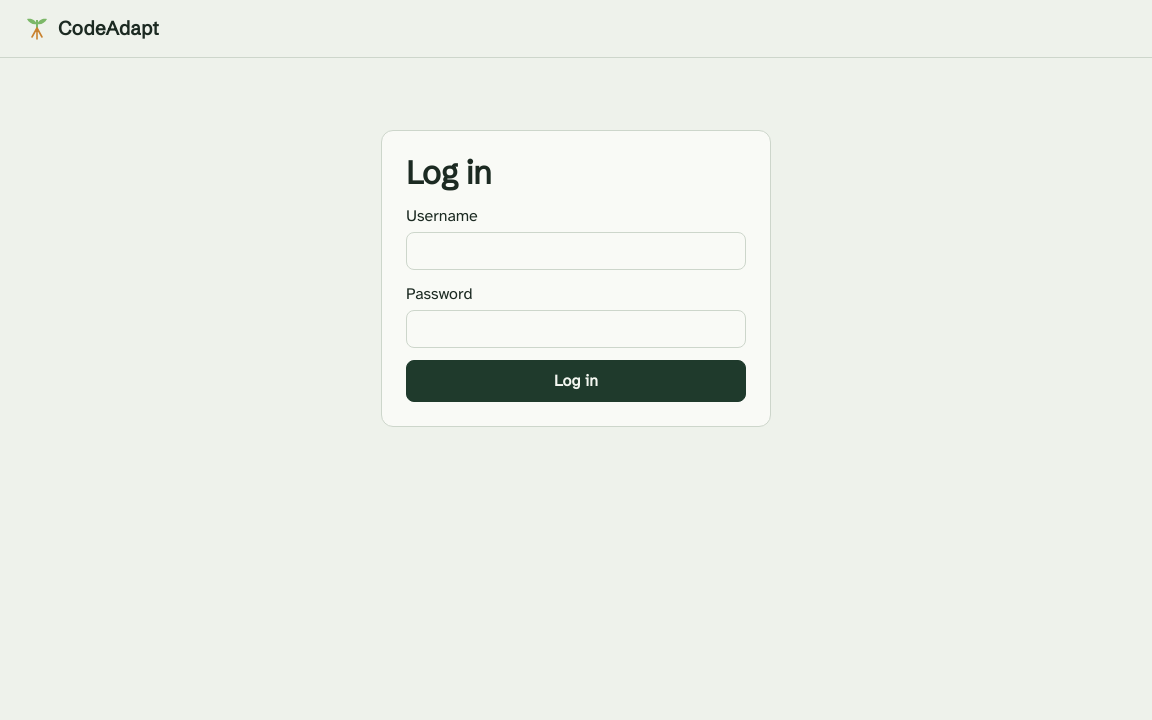
Test: login › shows the login form without a session, then the app after logging in
Type "ana" into the field labelled "Username".
click(576, 251); type("ana")  # box left=406, top=232, right=746, bottom=270
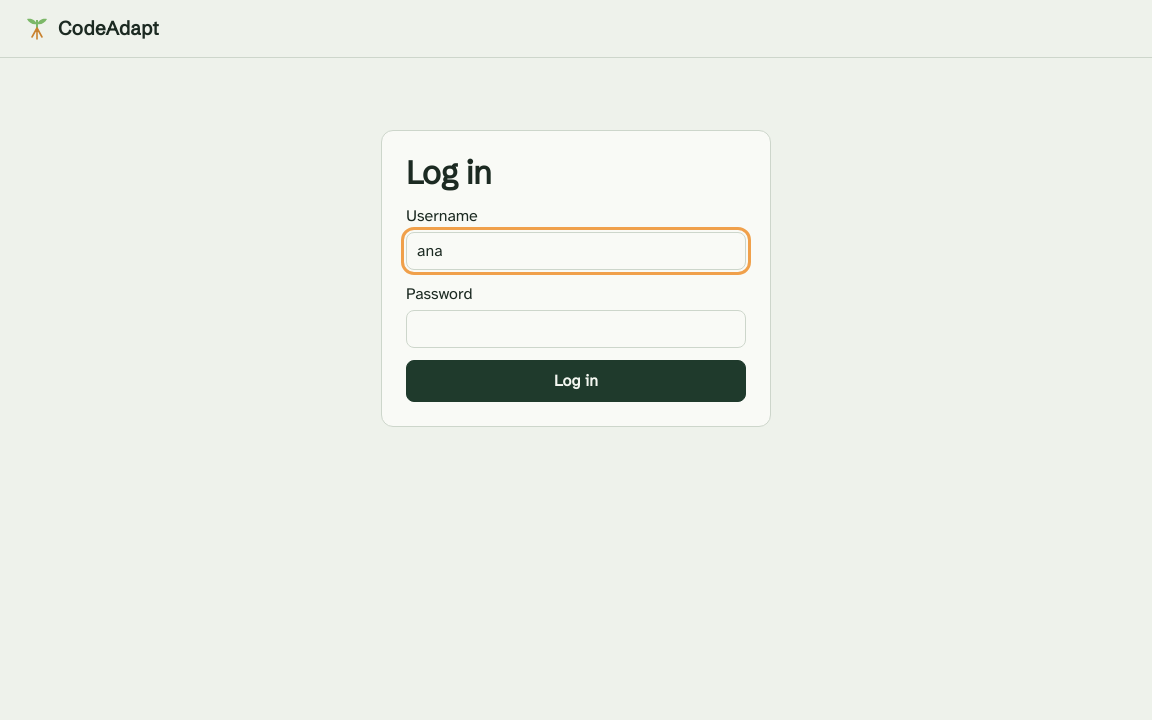
Type "wrong" into the password field labelled "Password".
click(576, 329); type("wrong")  # box left=406, top=310, right=746, bottom=348
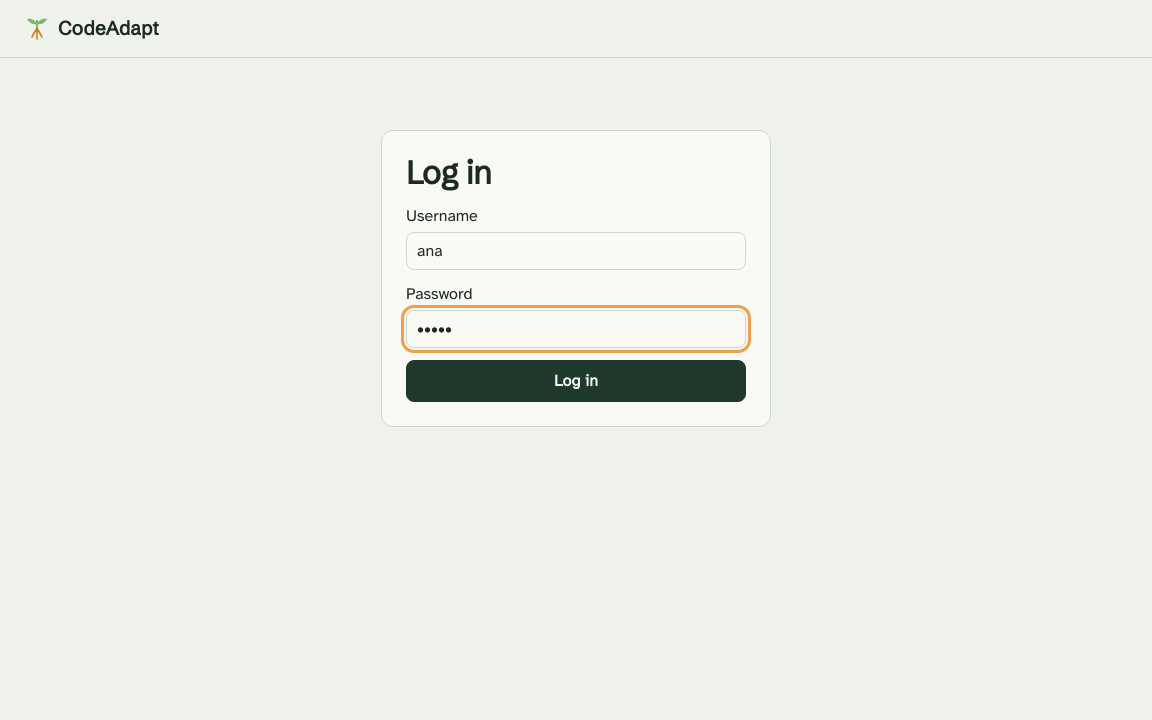
Click the button "Log in".
click(576, 381)  # box left=406, top=360, right=746, bottom=402
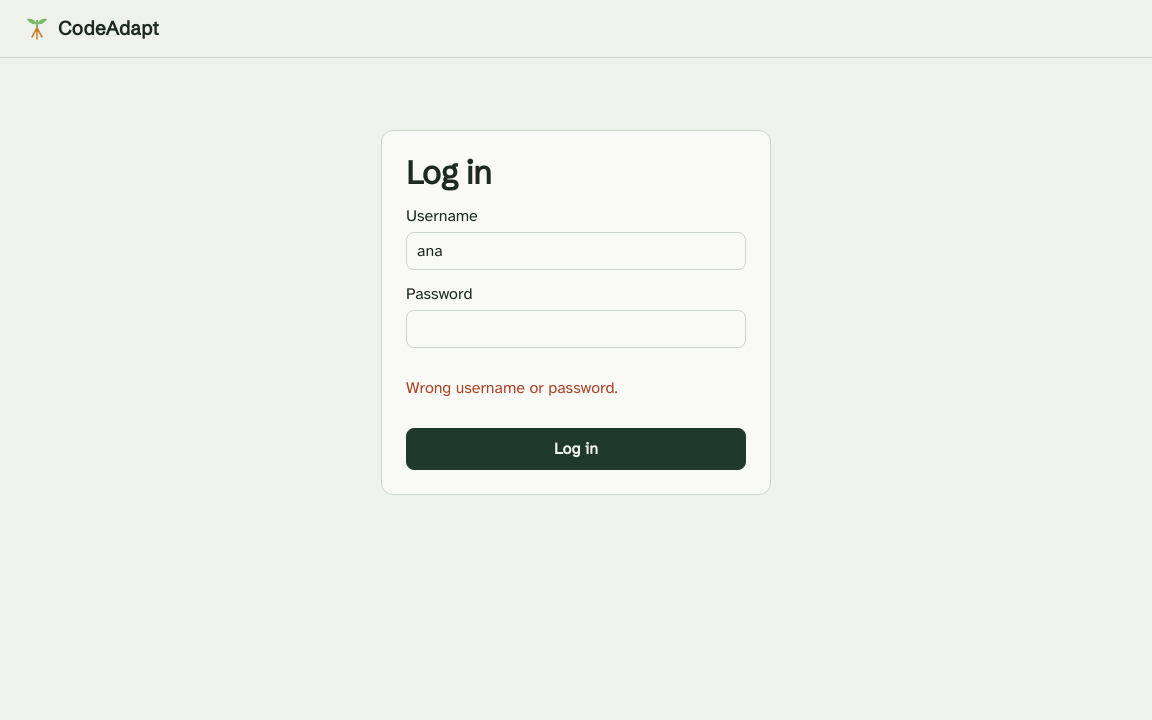
Expected: the message reads "Wrong username or password.", left=406, top=378, right=618, bottom=398
Type "right password" into the password field labelled "Password".
click(576, 329); type("right password")  # box left=406, top=310, right=746, bottom=348
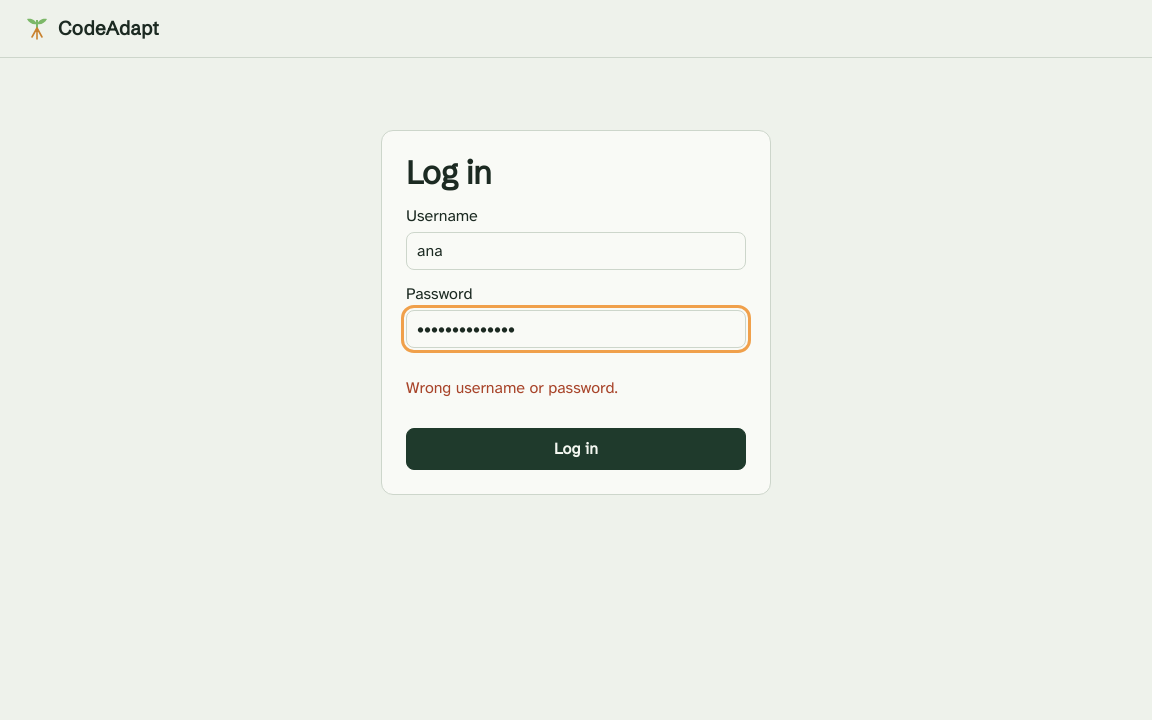
Click the button "Log in".
click(576, 449)  # box left=406, top=428, right=746, bottom=470
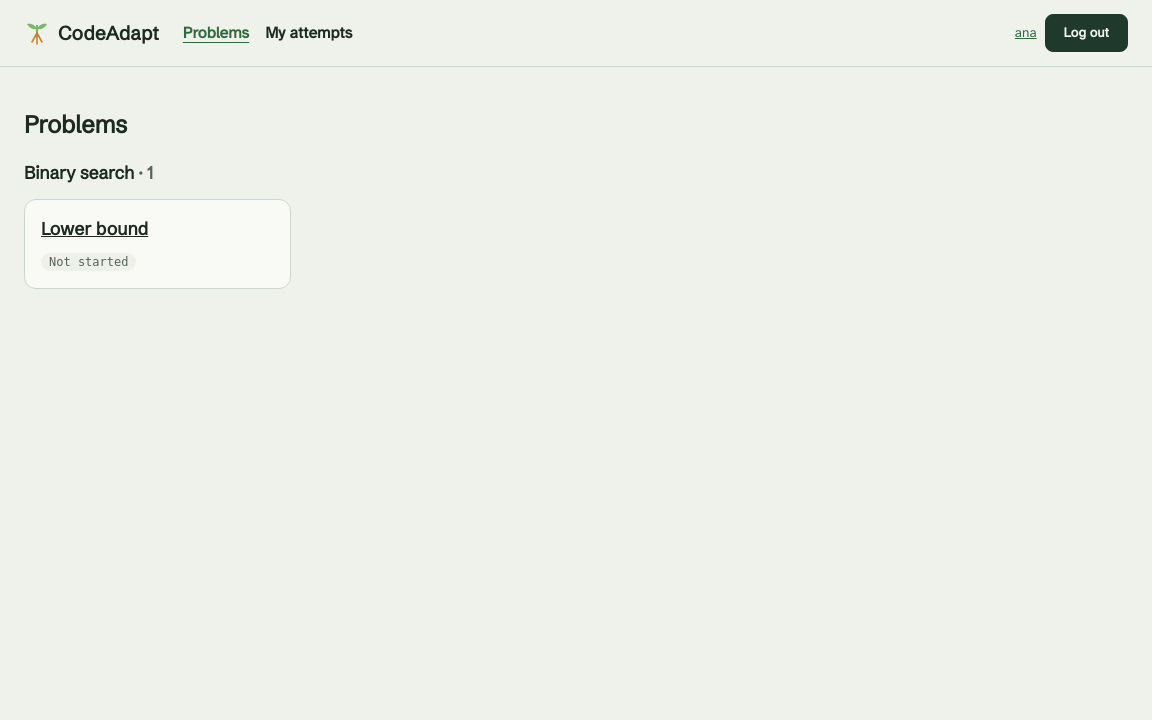
Expected: the link "ana" is shown, left=1015, top=23, right=1036, bottom=43
Click the button "Log out".
click(1086, 33)  # box left=1044, top=14, right=1128, bottom=52
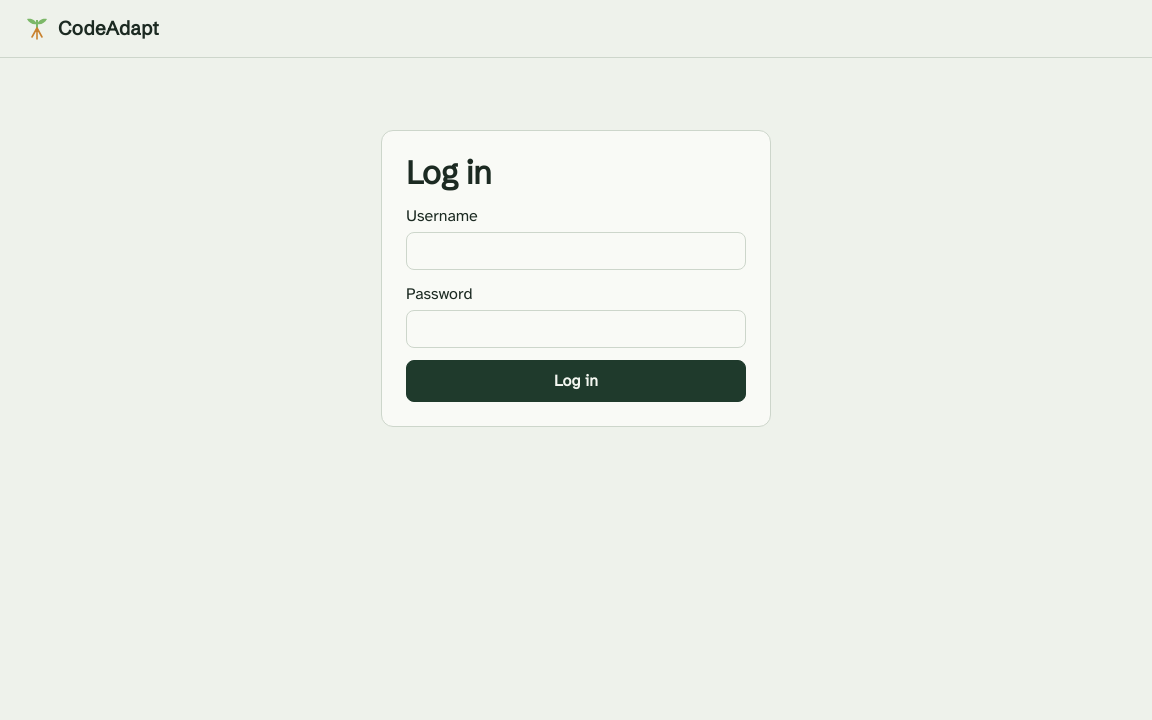
Expected: the heading "Log in" is shown, left=406, top=153, right=491, bottom=192
